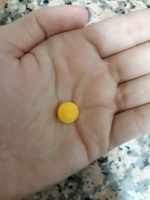Nurofen: (56, 101, 80, 124)
